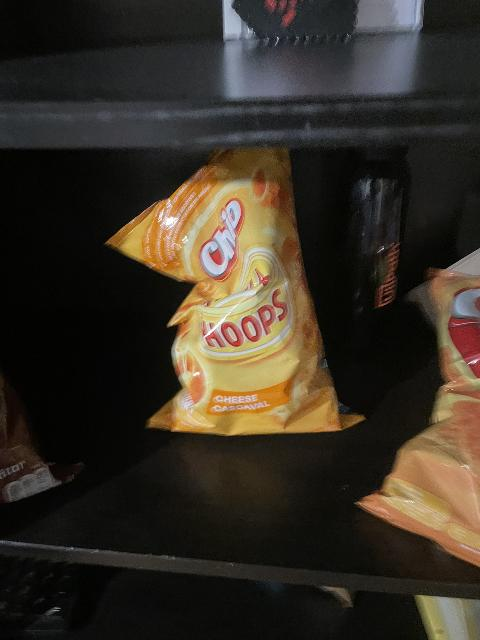Chio Cascaval 125g: (350, 266, 476, 579)
Chio Hula Hoops Cheese 70g: (110, 149, 366, 435)
Lays Beef Grilled Ribs 125g: (1, 360, 85, 506)
